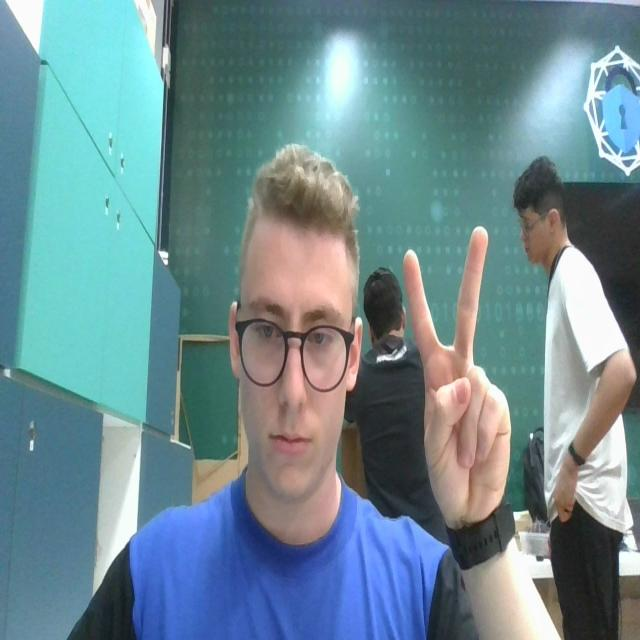V: (400, 215, 514, 519)
